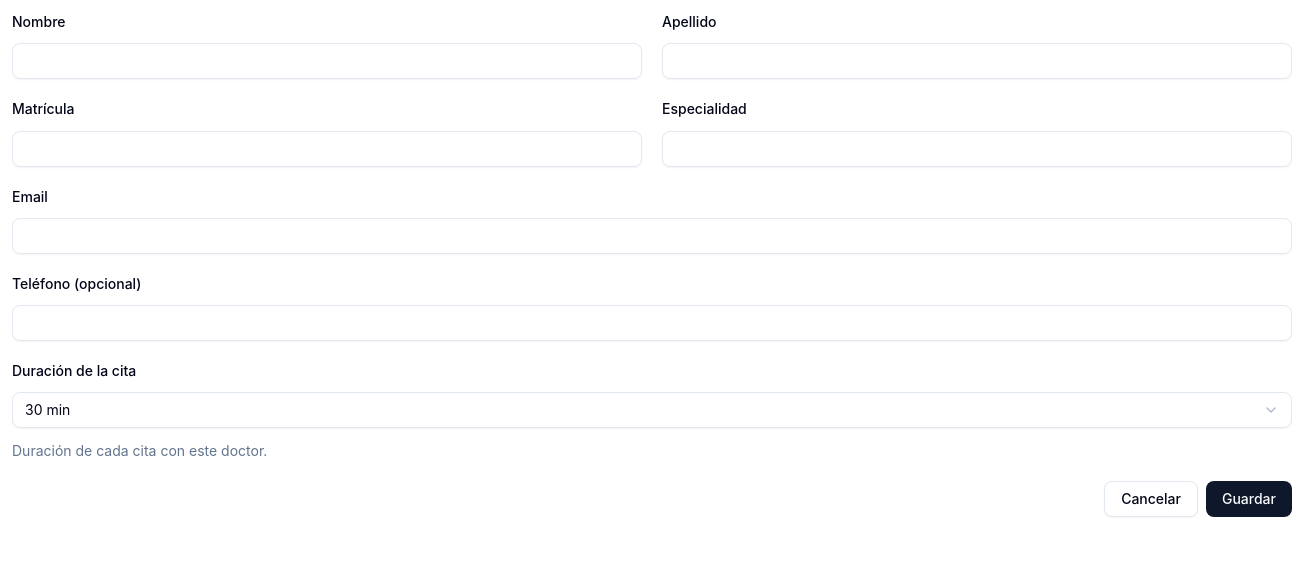
Scenario: DoctorForm › rejects an invalid phone
This screenshot has width=1304, height=566.
Type "  Luis " into the field labelled "Nombre" at [327, 61], box [12,43,642,79]
Type "Mora" into the field labelled "Apellido" at [977, 61], box [662,43,1292,79]
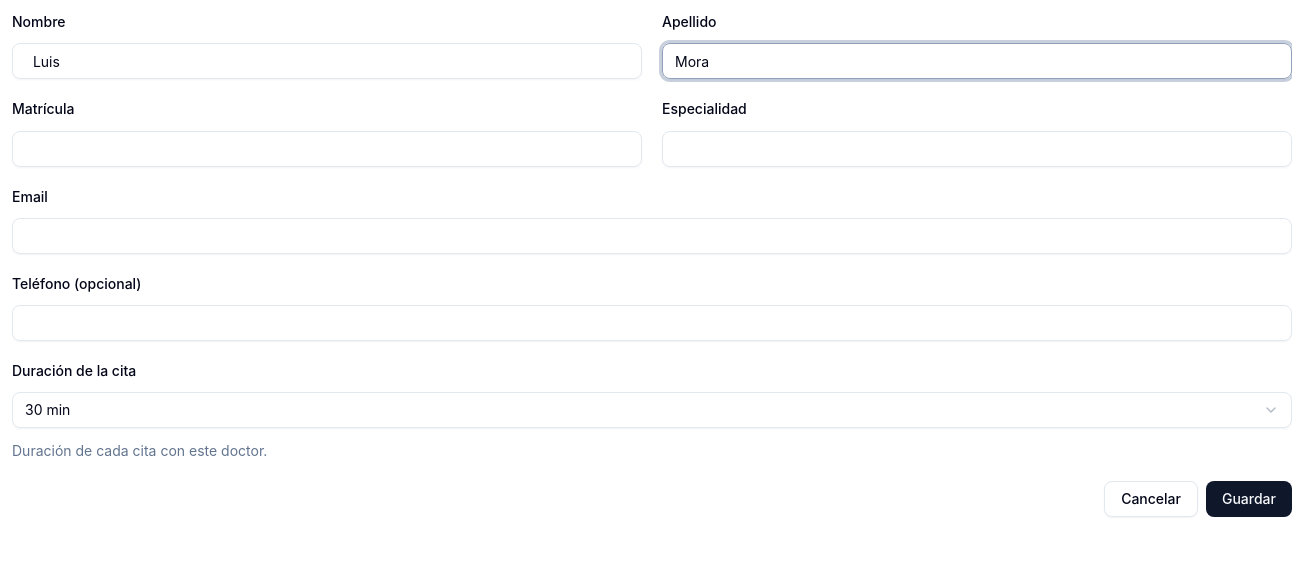
Type " mp-12345 " into the field labelled "Matrícula" at [327, 148], box [12,130,642,166]
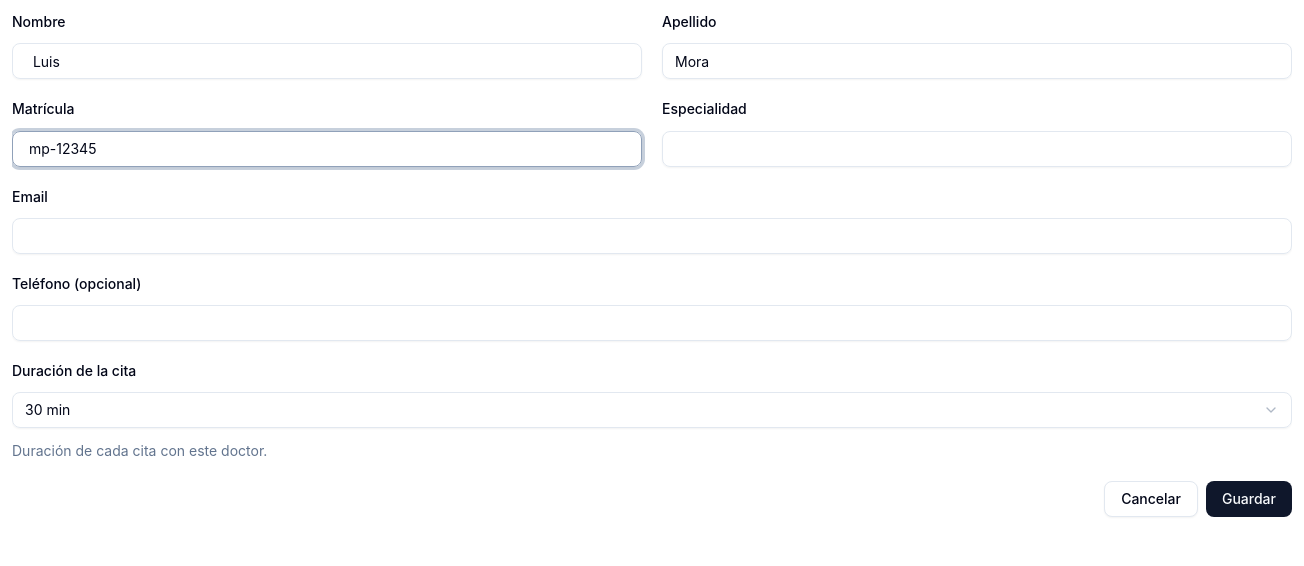
Type "Pediatría" into the field labelled "Especialidad" at [977, 148], box [662,130,1292,166]
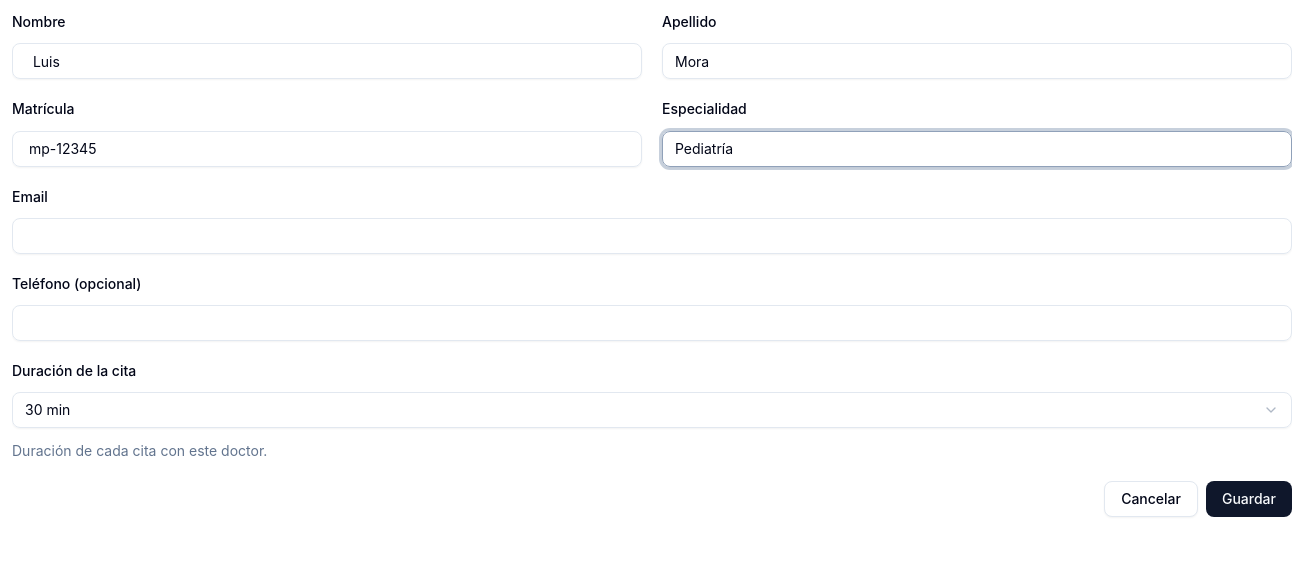
Type "luis.mora@dispensario.local" into the field labelled "Email" at [652, 236], box [12,218,1292,254]
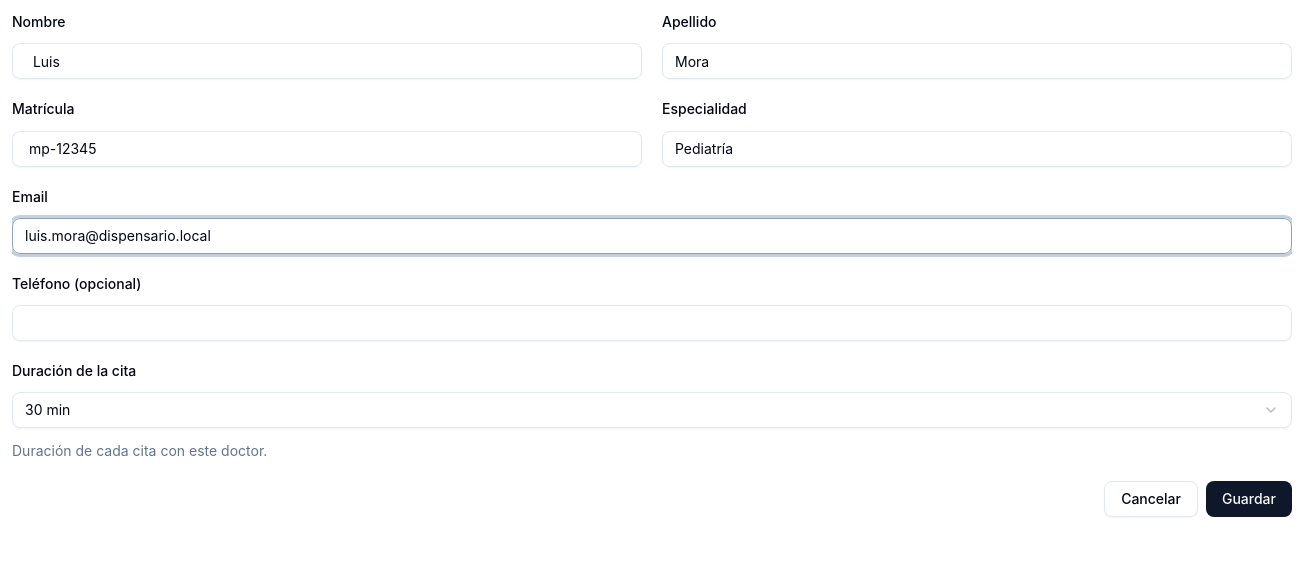
Type "abc" into the field labelled "Teléfono (opcional)" at [652, 323], box [12,305,1292,341]
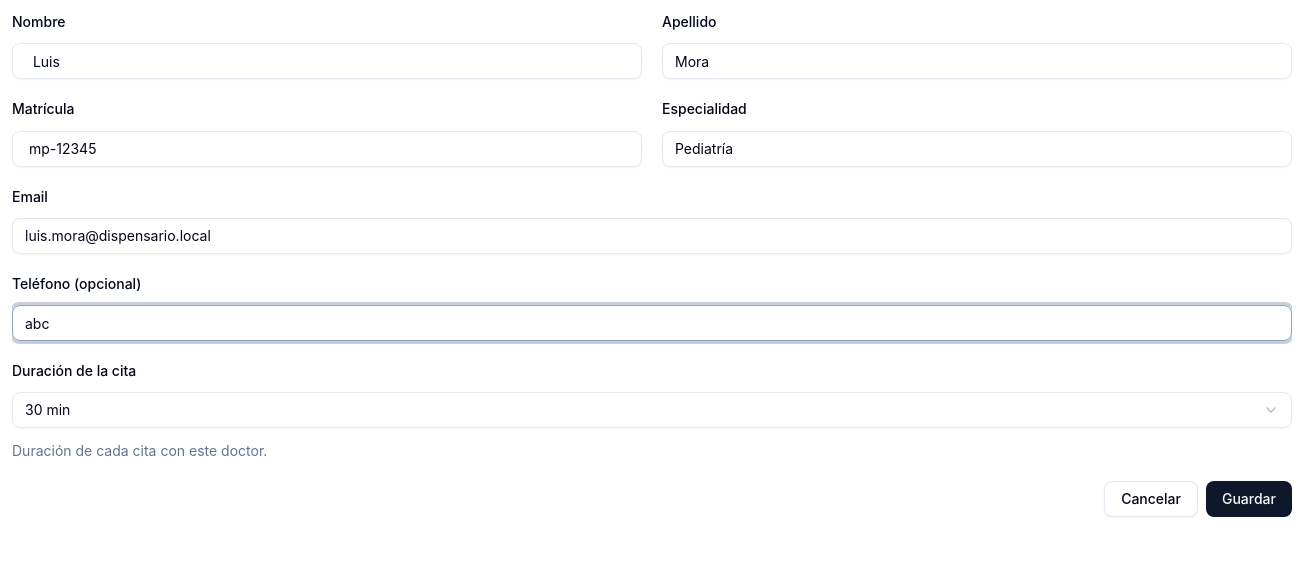
Click the button "Guardar" at [1249, 499], box [1206,481,1292,517]
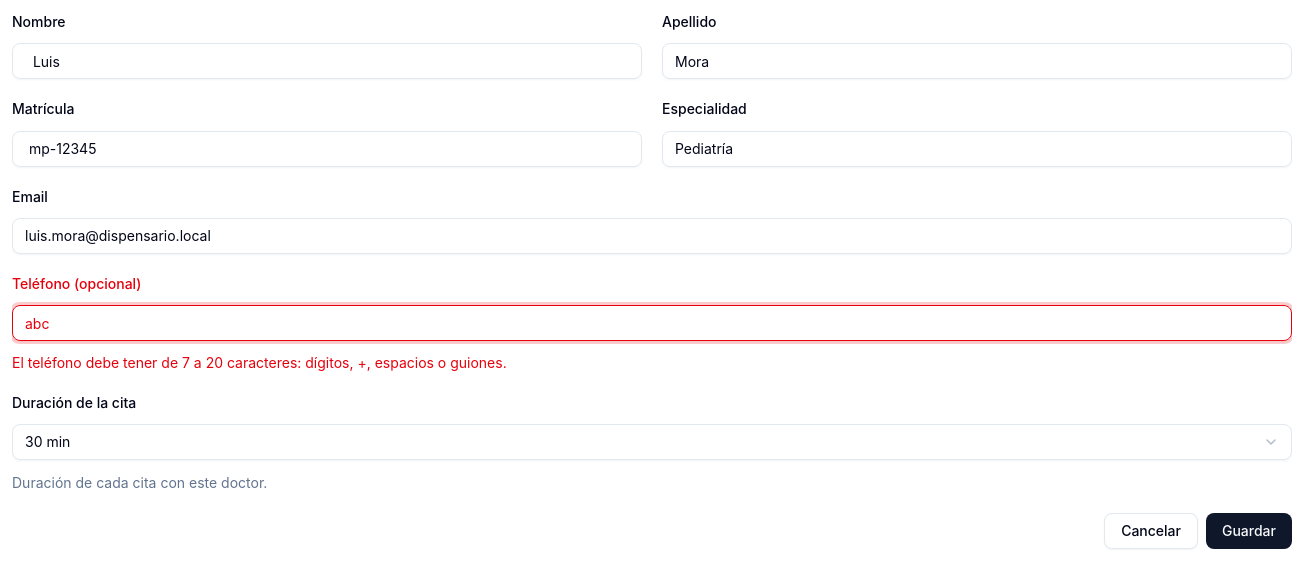
expect the text "El teléfono debe tener de 7 a 20 caracteres: dígitos, +, espacios o guiones." is shown: met, box [12,354,507,371]
